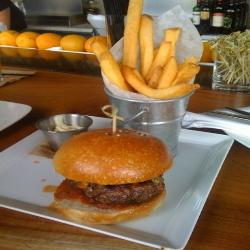burger: (45, 122, 181, 228)
fries: (91, 12, 207, 116)
